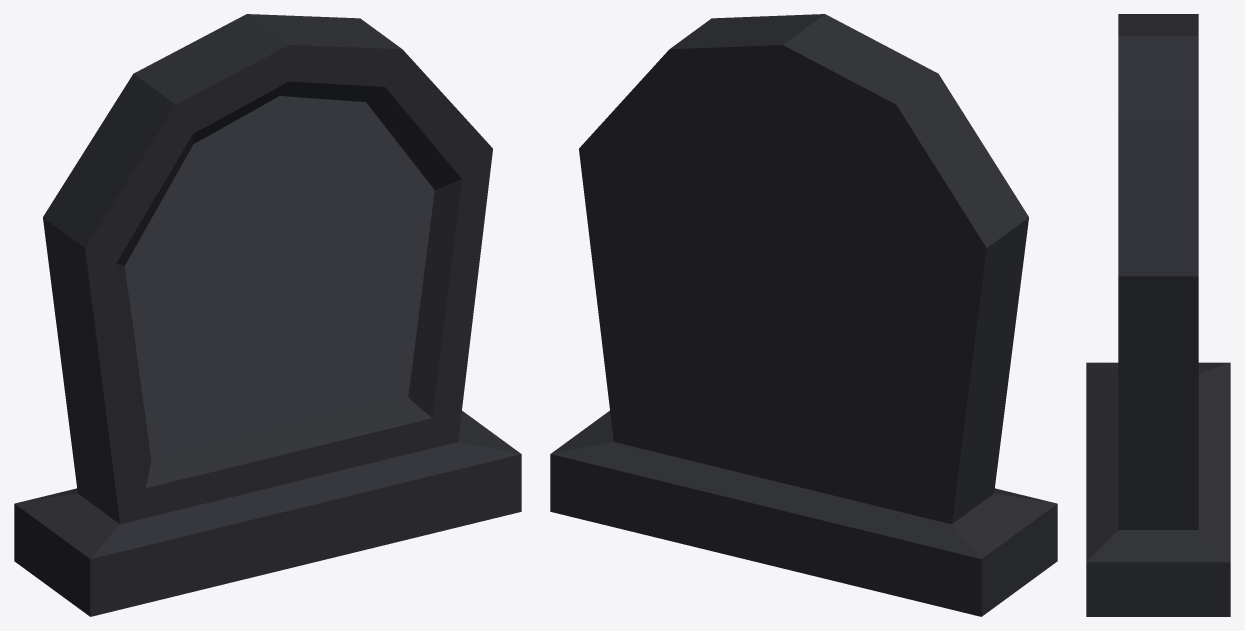
The model's file is Tumulo4.fbx.
3 views of the same model, side by side, from view 1: azimuth 30°, elevation 25°; view 2: azimuth 150°, elevation 25°; view 3: azimuth 270°, elevation 25° (orthographic). The views are drawn at different scales.
Visible parts, largest first — view 1: Cube.284; view 2: Cube.284; view 3: Cube.284.
Part boxes in pixels (left/top/right/bottom): Cube.284: left=14, top=14, right=521, bottom=616; Cube.284: left=550, top=14, right=1057, bottom=616; Cube.284: left=1086, top=14, right=1230, bottom=616.
Size of the model in its own units: 107 by 121 by 32.76.
